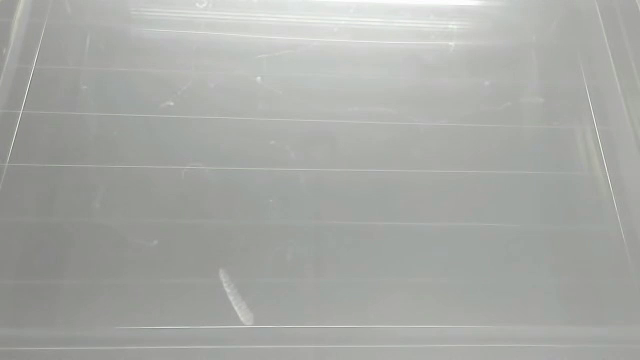alpha: (214, 264, 256, 329)
